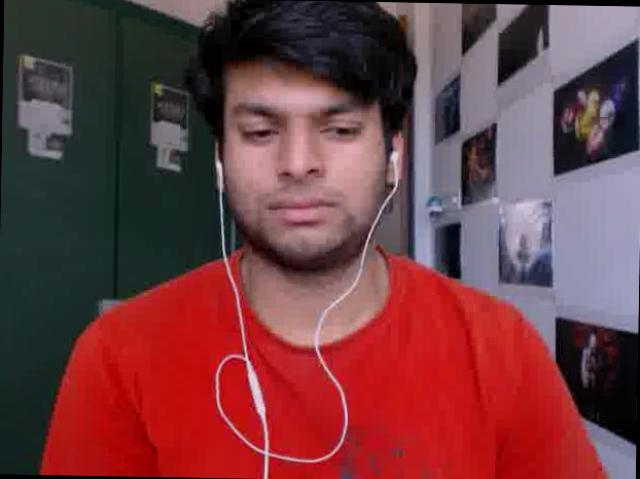bosan: (224, 48, 394, 256)
